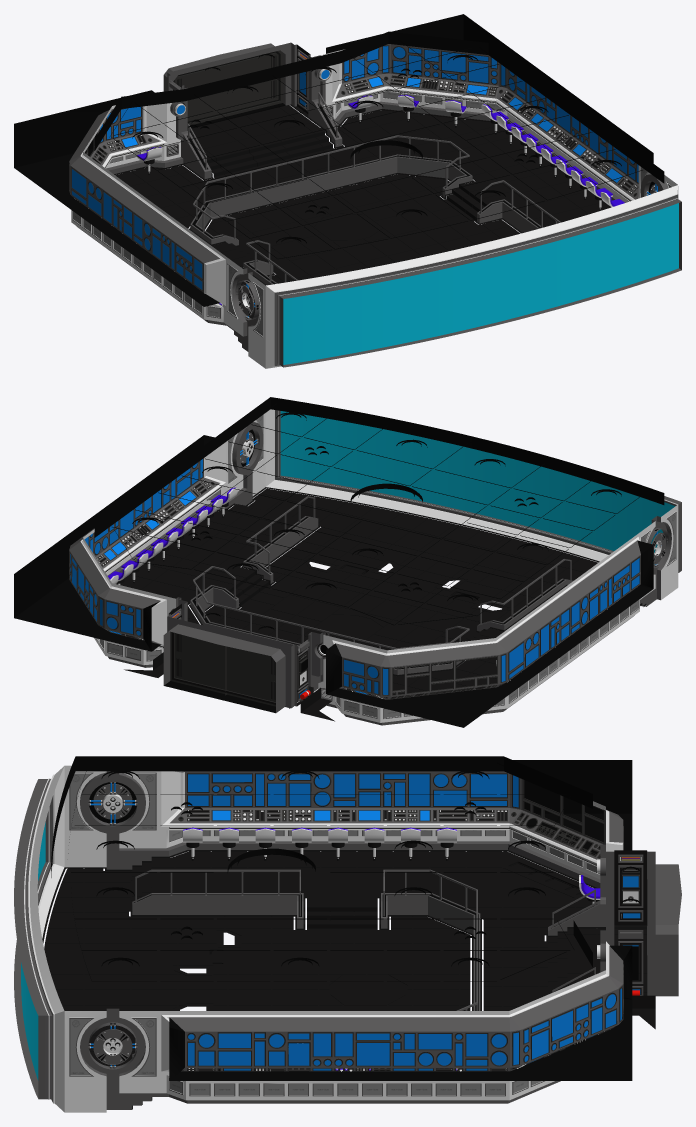
File: TrainingBridgeV1.fbx
3 views of the same model, one above another, from view 1: azimuth 30°, elevation 25°; view 2: azimuth 150°, elevation 25°; view 3: azimuth 270°, elevation 25° (orthographic). The views are drawn at different scales.
Parts seen in each view (by area): view 1: TrainingBridge, TrainingBridgeDoor; view 2: TrainingBridge, TrainingBridgeDoor; view 3: TrainingBridge.
Boxes of the visible parts, left/top/right/bottom form: TrainingBridge: left=14, top=14, right=681, bottom=368; TrainingBridgeDoor: left=173, top=50, right=282, bottom=125; TrainingBridge: left=14, top=397, right=681, bottom=727; TrainingBridgeDoor: left=170, top=631, right=275, bottom=706; TrainingBridge: left=14, top=756, right=681, bottom=1112.
Size of what is drawn, in the model's own units: 19.18 by 4.39 by 20.25.
16 materials, 3 textured.
